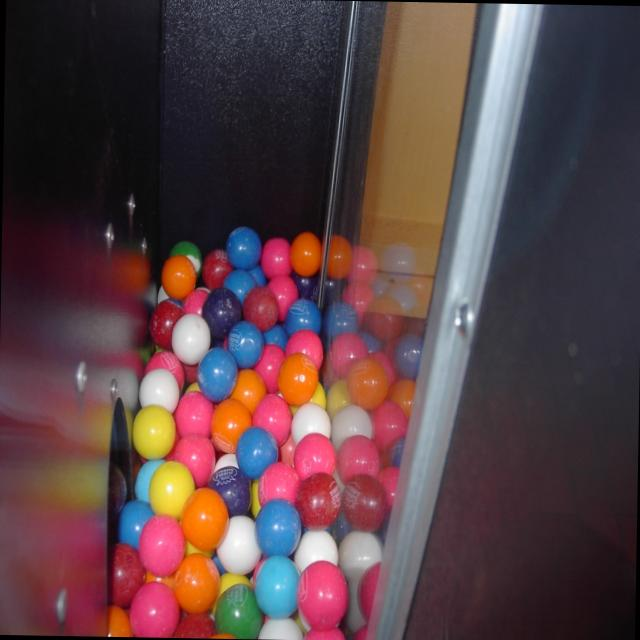Ball: (107, 223, 354, 640)
